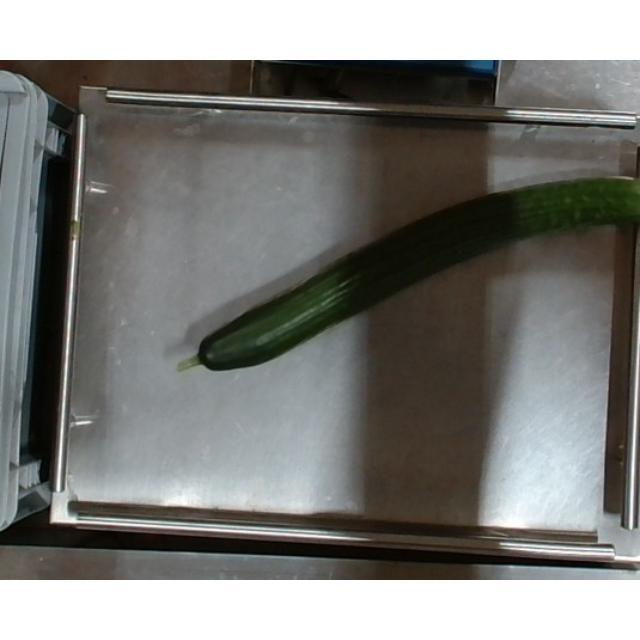cucumber: (174, 180, 640, 376)
